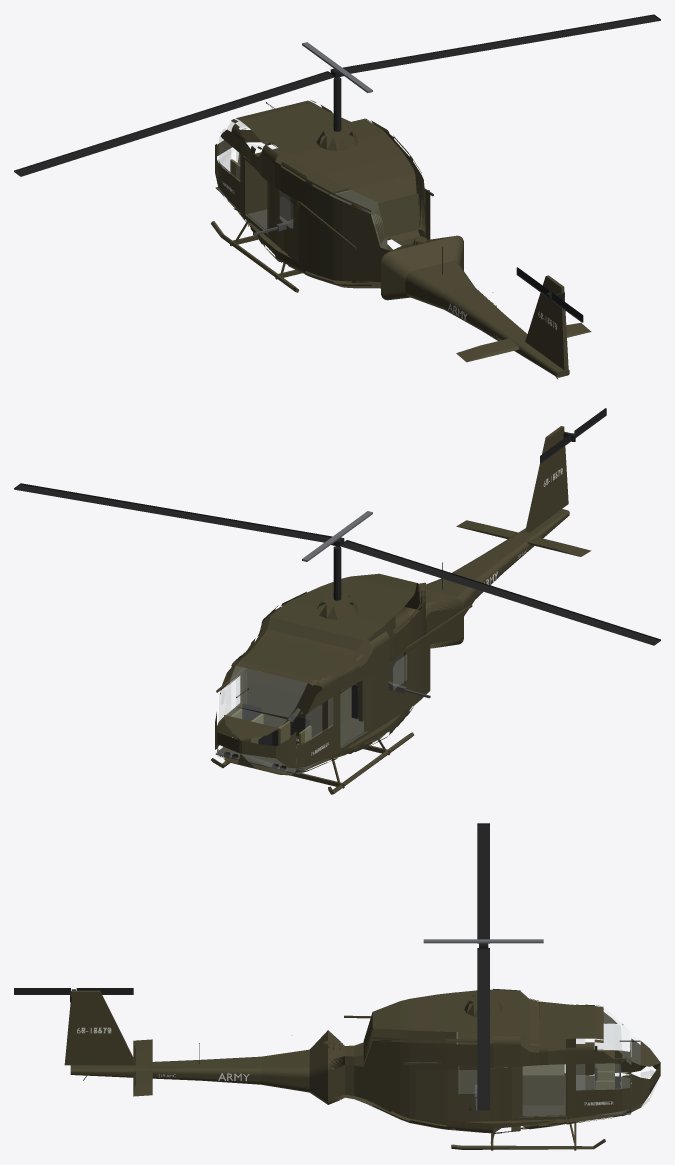
Rendered from huey_v3_lod.glb.
3 renders of one model, top to bottom at view 1: azimuth 30°, elevation 25°; view 2: azimuth 150°, elevation 25°; view 3: azimuth 270°, elevation 25°, orthographic. The views are drawn at different scales.
Parts seen in each view (by area): view 1: fuselage_fwd, fuselage_aft, huey_lod_huey_od_exterior, New_Blade_2, door_r, huey_lod_huey_od_interior, huey_lod_Glass, New_TailBlade_1; view 2: fuselage_fwd, huey_lod_huey_od_exterior, New_Blade_2, huey_lod_Glass, fuselage_aft, door_r, huey_lod_huey_deck, huey_lod_huey_od_interior, huey_lod_huey_seat_olive, huey_lod_huey_panel_black, New_TailBlade_1, huey_lod_huey_cushion; view 3: fuselage_fwd, huey_lod_huey_od_exterior, fuselage_aft, door_l, New_Blade_2, huey_lod_Glass, huey_lod_huey_od_interior, huey_lod_huey_deck, New_TailBlade_1, New_Rotor_Flybar, huey_lod_huey_seat_olive.
Boxes of the visible parts, x1,y1,x2,y2 form: fuselage_fwd: (215, 100, 452, 288); fuselage_aft: (381, 235, 569, 377); huey_lod_huey_od_exterior: (211, 124, 591, 379); New_Blade_2: (14, 14, 660, 176); door_r: (267, 181, 320, 275); huey_lod_huey_od_interior: (279, 190, 388, 249); huey_lod_Glass: (218, 119, 275, 181); New_TailBlade_1: (516, 267, 583, 322); fuselage_fwd: (215, 573, 463, 775); huey_lod_huey_od_exterior: (211, 426, 591, 794); New_Blade_2: (14, 483, 660, 645); huey_lod_Glass: (216, 666, 332, 773); fuselage_aft: (395, 509, 569, 643); door_r: (364, 635, 430, 731); huey_lod_huey_deck: (215, 716, 368, 774); huey_lod_huey_od_interior: (340, 653, 403, 724); huey_lod_huey_seat_olive: (230, 709, 311, 757); huey_lod_huey_panel_black: (224, 682, 358, 770); New_TailBlade_1: (540, 408, 606, 463); huey_lod_huey_cushion: (242, 704, 309, 737); fuselage_fwd: (328, 988, 660, 1133); huey_lod_huey_od_exterior: (64, 990, 626, 1150); fuselage_aft: (70, 1030, 327, 1104); door_l: (415, 1066, 522, 1120); New_Blade_2: (477, 823, 489, 1110); huey_lod_Glass: (576, 1008, 656, 1107); huey_lod_huey_od_interior: (456, 1032, 564, 1105); huey_lod_huey_deck: (518, 1074, 630, 1117); New_TailBlade_1: (14, 988, 133, 994); New_Rotor_Flybar: (423, 939, 543, 943); huey_lod_huey_seat_olive: (595, 1050, 614, 1089).
Size of the model in its own units: 14.63 by 4.41 by 14.
Materials: 14 (2 with a texture image).
